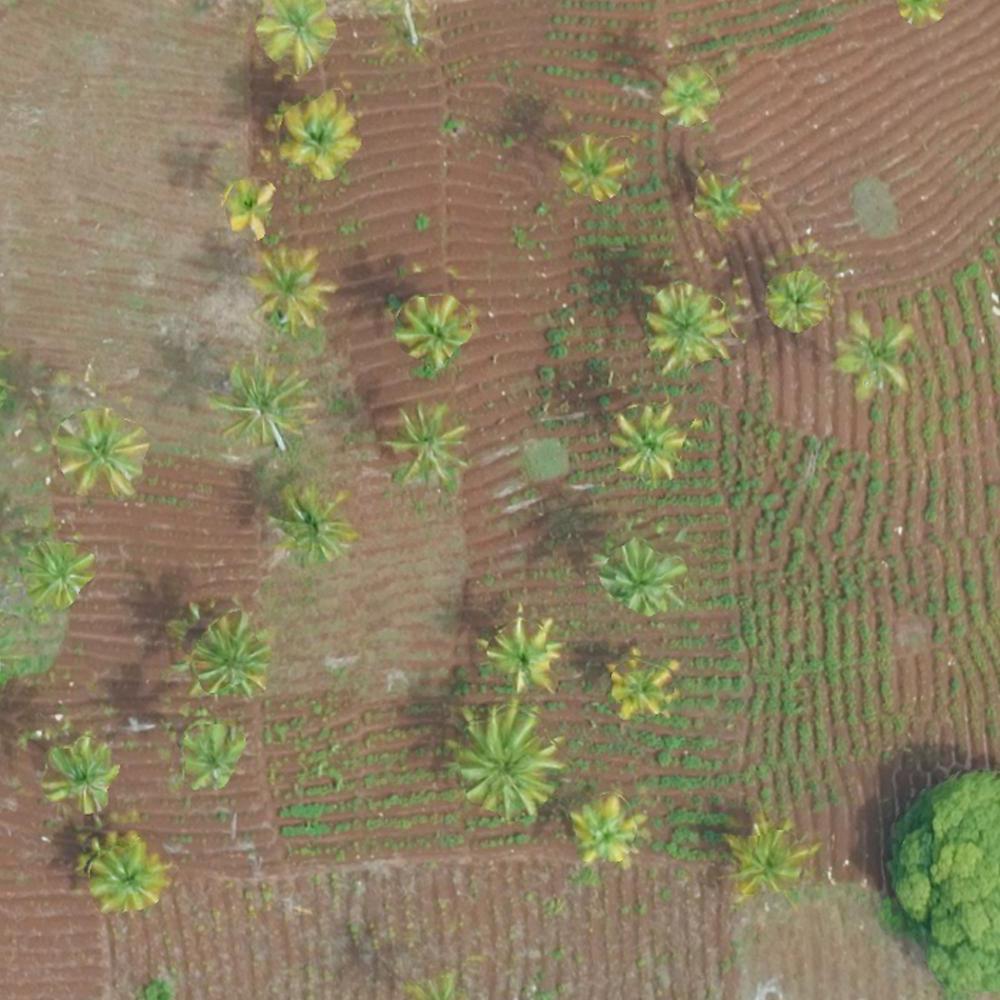Palm: (453, 704, 563, 808), (218, 364, 307, 450), (57, 411, 143, 496), (643, 284, 729, 369), (601, 541, 690, 619), (834, 312, 914, 398), (720, 821, 809, 894), (254, 245, 333, 327), (610, 399, 686, 483), (388, 406, 469, 483), (483, 611, 560, 690), (192, 616, 268, 695), (283, 98, 358, 178), (268, 489, 345, 563), (392, 293, 472, 363), (259, 1, 335, 72), (45, 739, 118, 812), (553, 132, 630, 201), (605, 646, 675, 721), (90, 834, 159, 909), (762, 268, 835, 338), (569, 797, 645, 864), (178, 722, 251, 791), (25, 541, 90, 602), (658, 65, 719, 129), (687, 168, 752, 228), (220, 174, 278, 240)
